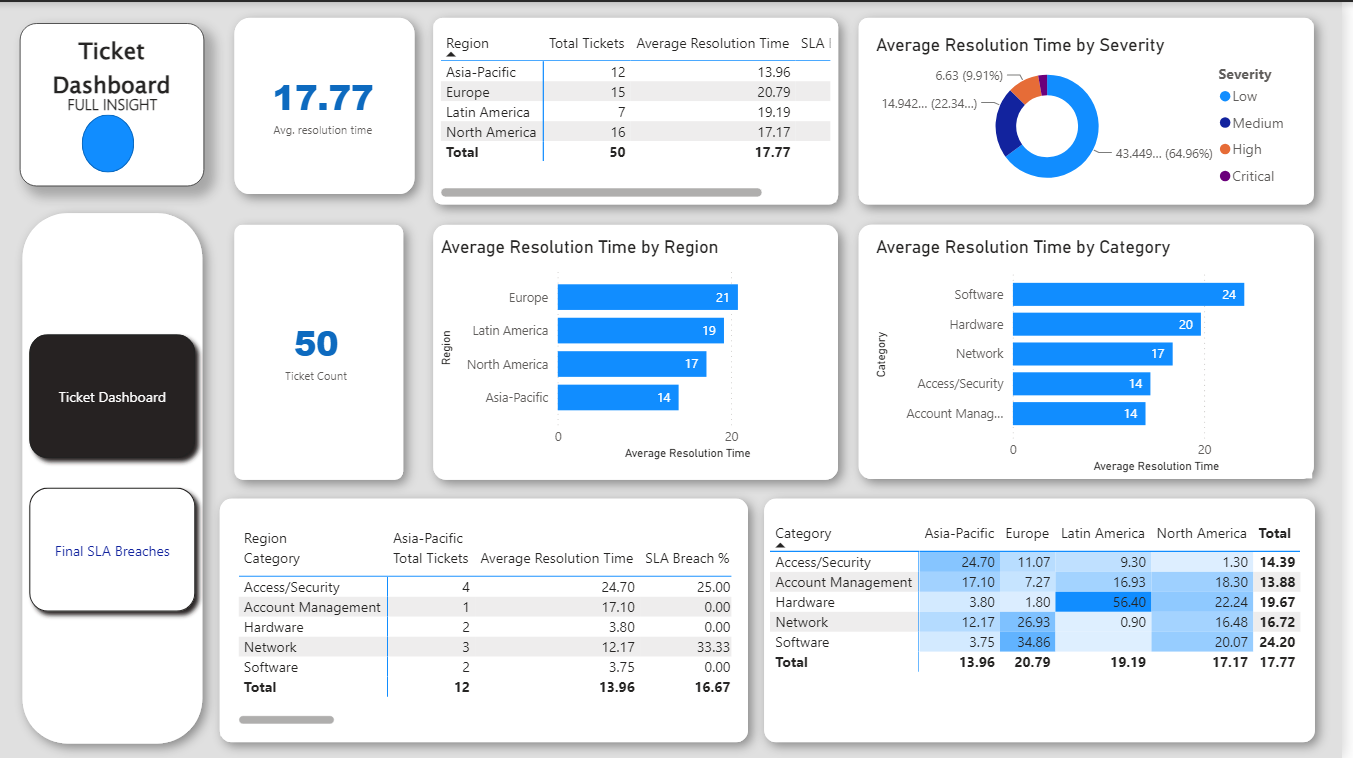

The dashboard page shown, as its layout file describes it:
{"tool":"powerbi","page":{"name":"Ticket Dashboard","canvas":[1280,720],"ordinal":3},"visuals":[{"type":"shape","box":[9.9,185.7,201.1,534.4],"z":0},{"type":"shape","box":[210.2,0,201.3,197.8],"z":1000},{"type":"shape","box":[400.5,0,415.3,207.6],"z":2000},{"type":"shape","box":[400.9,197.8,415.2,272.6],"z":3000},{"type":"shape","box":[805.9,0,463.1,207.6],"z":4000},{"type":"shape","box":[714.5,457.9,554.1,261.9],"z":5000},{"type":"shape","box":[805.9,197.8,463.1,271.9],"z":6000},{"type":"shape","box":[210.2,197.8,190.6,272.6],"z":7000},{"type":"textbox","box":[21.7,20.2,175.3,155.1],"z":8000},{"type":"textbox","box":[33.9,82,151.5,37.4],"z":9000},{"type":"shape","box":[80.2,106.9,49.9,55.2],"z":10000},{"type":"cardVisual","fields":{"Data":["ticket_raw_data.Average Resolution Time"]},"box":[233.4,19.6,155,155],"z":11000},{"type":"donutChart","fields":{"Y":["ticket_raw_data.Average Resolution Time"],"Category":["ticket_raw_data.Severity"]},"box":[832.1,30.3,408,155],"z":12000},{"type":"clusteredBarChart","fields":{"Category":["ticket_raw_data.Category"],"Y":["ticket_raw_data.Average Resolution Time"]},"box":[832.1,222.7,420.5,229.8],"z":13000},{"type":"clusteredBarChart","fields":{"Category":["ticket_raw_data.Region"],"Y":["ticket_raw_data.Average Resolution Time"]},"box":[416.9,222.7,376,217.4],"z":14000},{"type":"pivotTable","fields":{"Rows":["ticket_raw_data.Region"],"Values":["ticket_raw_data.Total Tickets","ticket_raw_data.Average Resolution Time","ticket_raw_data.SLA Breach %"]},"box":[416.9,23.2,381.3,167.5],"z":15000},{"type":"pivotTable","fields":{"Rows":["ticket_raw_data.Category"],"Columns":["ticket_raw_data.Region"],"Values":["ticket_raw_data.Average Resolution Time"]},"box":[730.5,490,522.1,197.8],"z":16000},{"type":"pivotTable","fields":{"Rows":["ticket_raw_data.Category"],"Columns":["ticket_raw_data.Region"],"Values":["ticket_raw_data.Total Tickets","ticket_raw_data.Average Resolution Time","ticket_raw_data.SLA Breach %"]},"box":[212,490,479.3,208.5],"z":17000},{"type":"shape","box":[197.8,457.9,532.7,261.9],"z":18000},{"type":"pivotTable","fields":{"Rows":["ticket_raw_data.Category"],"Columns":["ticket_raw_data.Region"],"Values":["ticket_raw_data.Total Tickets","ticket_raw_data.Average Resolution Time","ticket_raw_data.SLA Breach %"]},"box":[224.5,495.3,479.3,197.8],"z":19000},{"type":"cardVisual","fields":{"Data":["Count(ticket_raw_data.Ticket ID)"]},"box":[233.4,254.8,142.5,155],"z":20000},{"type":"pageNavigator","box":[21.4,306.5,176.4,283.3],"z":20001}]}

Visuals, with their boxes in screenshot pixels (x1, y1, x2, y2), scaled from the page's 1280x720 canvas onto the 1353x758 screenshot:
shape: Rect(10, 196, 223, 757)
shape: Rect(222, 0, 435, 208)
shape: Rect(423, 0, 862, 219)
shape: Rect(424, 208, 863, 495)
shape: Rect(852, 0, 1341, 219)
shape: Rect(755, 482, 1341, 757)
shape: Rect(852, 208, 1341, 494)
shape: Rect(222, 208, 424, 495)
textbox: Rect(23, 21, 208, 185)
textbox: Rect(36, 86, 196, 126)
shape: Rect(85, 113, 138, 171)
cardVisual - ticket_raw_data.Average Resolution Time: Rect(247, 21, 411, 184)
donutChart - ticket_raw_data.Average Resolution Time x ticket_raw_data.Severity: Rect(880, 32, 1311, 195)
clusteredBarChart - ticket_raw_data.Category x ticket_raw_data.Average Resolution Time: Rect(880, 234, 1324, 476)
clusteredBarChart - ticket_raw_data.Region x ticket_raw_data.Average Resolution Time: Rect(441, 234, 838, 463)
pivotTable - ticket_raw_data.Region x ticket_raw_data.Total Tickets: Rect(441, 24, 844, 201)
pivotTable - ticket_raw_data.Category x ticket_raw_data.Region: Rect(772, 516, 1324, 724)
pivotTable - ticket_raw_data.Category x ticket_raw_data.Region: Rect(224, 516, 731, 735)
shape: Rect(209, 482, 772, 757)
pivotTable - ticket_raw_data.Category x ticket_raw_data.Region: Rect(237, 521, 744, 730)
cardVisual - Count(ticket_raw_data.Ticket ID): Rect(247, 268, 397, 431)
pageNavigator: Rect(23, 323, 209, 621)
